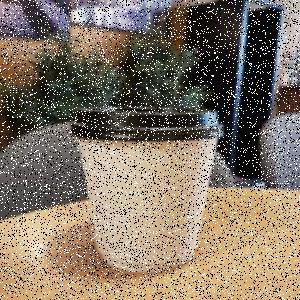Cup: (70, 104, 228, 274)
